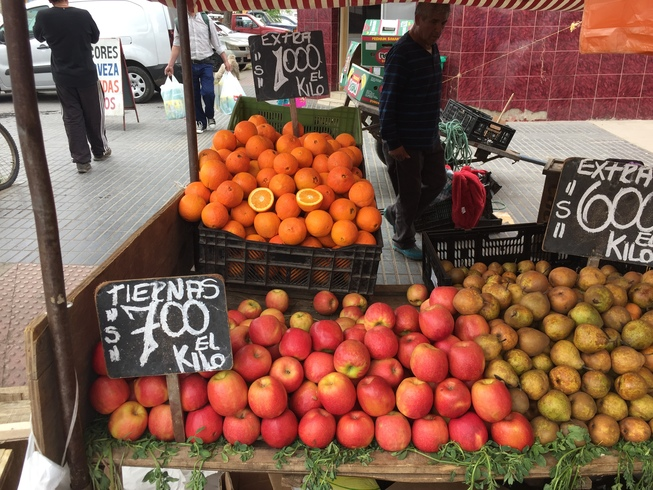precio: (87, 266, 245, 387), (539, 146, 653, 266), (245, 25, 334, 103)
